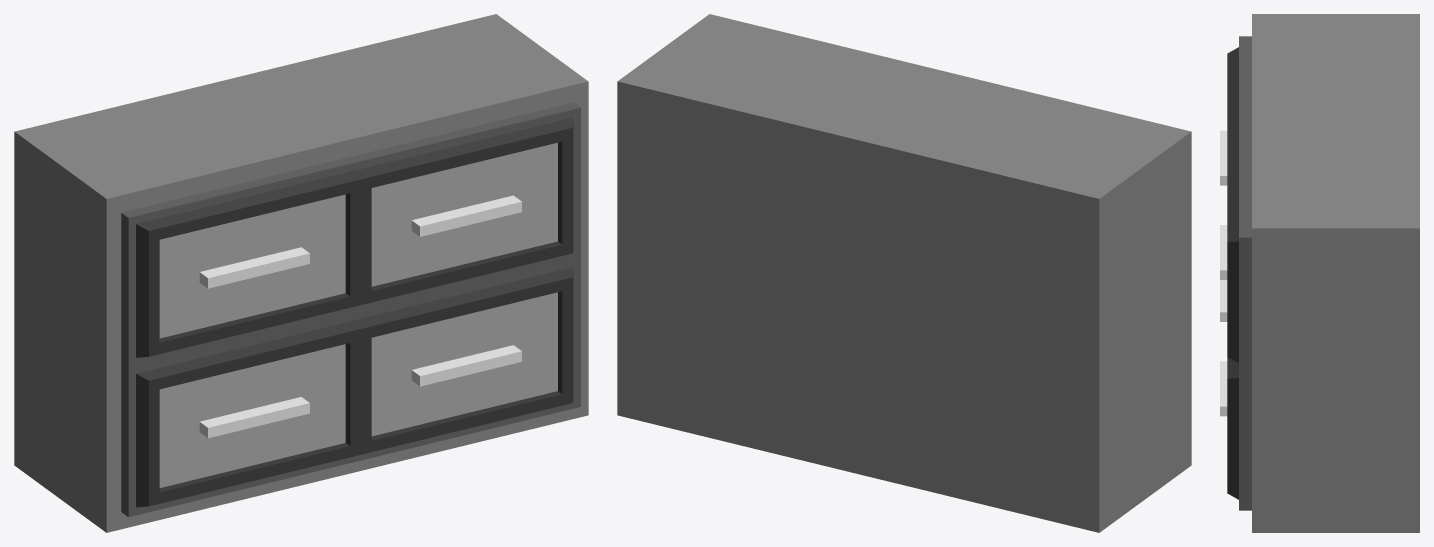
File: Drawers.fbx
3 views of the same model, side by side, from view 1: azimuth 30°, elevation 25°; view 2: azimuth 150°, elevation 25°; view 3: azimuth 270°, elevation 25° (orthographic). The views are drawn at different scales.
Visible parts, largest first — view 1: Drawers; view 2: Drawers; view 3: Drawers.
Boxes of the visible parts, x1,y1,x2,y2 form: Drawers: (14, 14, 588, 532); Drawers: (617, 14, 1191, 532); Drawers: (1220, 14, 1419, 532).
Size of the model in its own units: 4877 by 3230 by 1922.
1 material, 1 textured.
